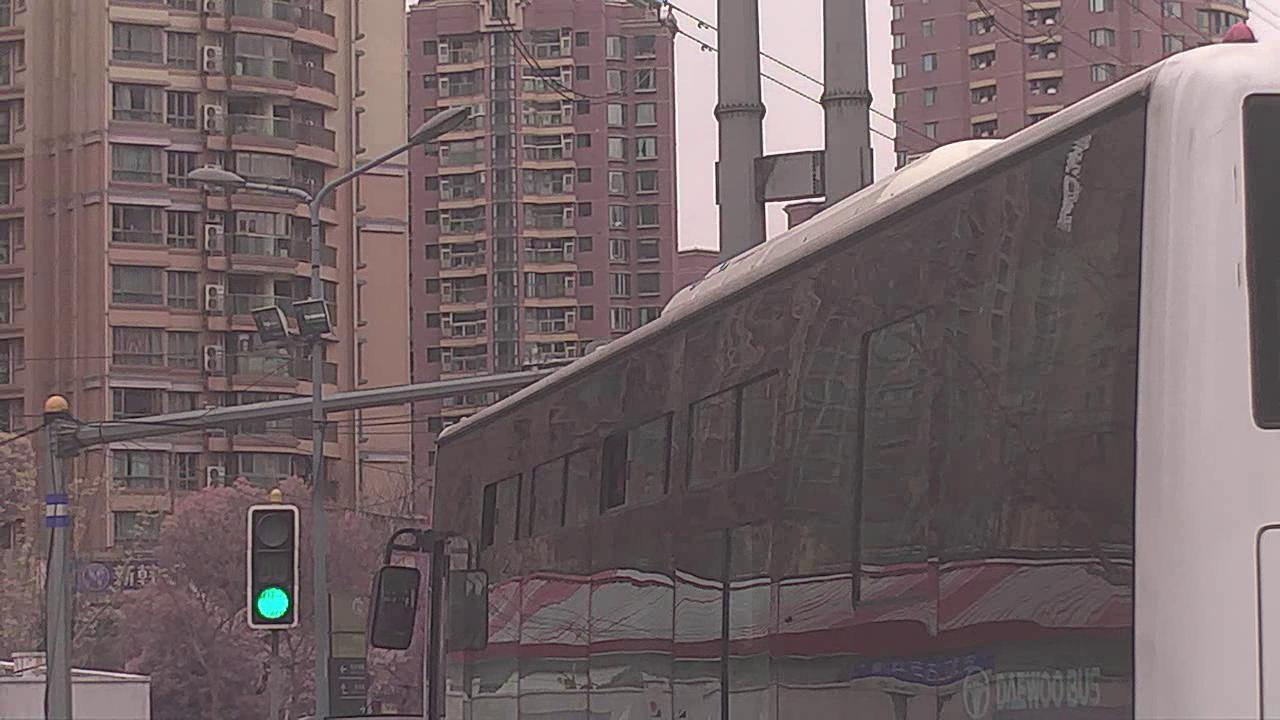traffic_light: (250, 504, 297, 628)
